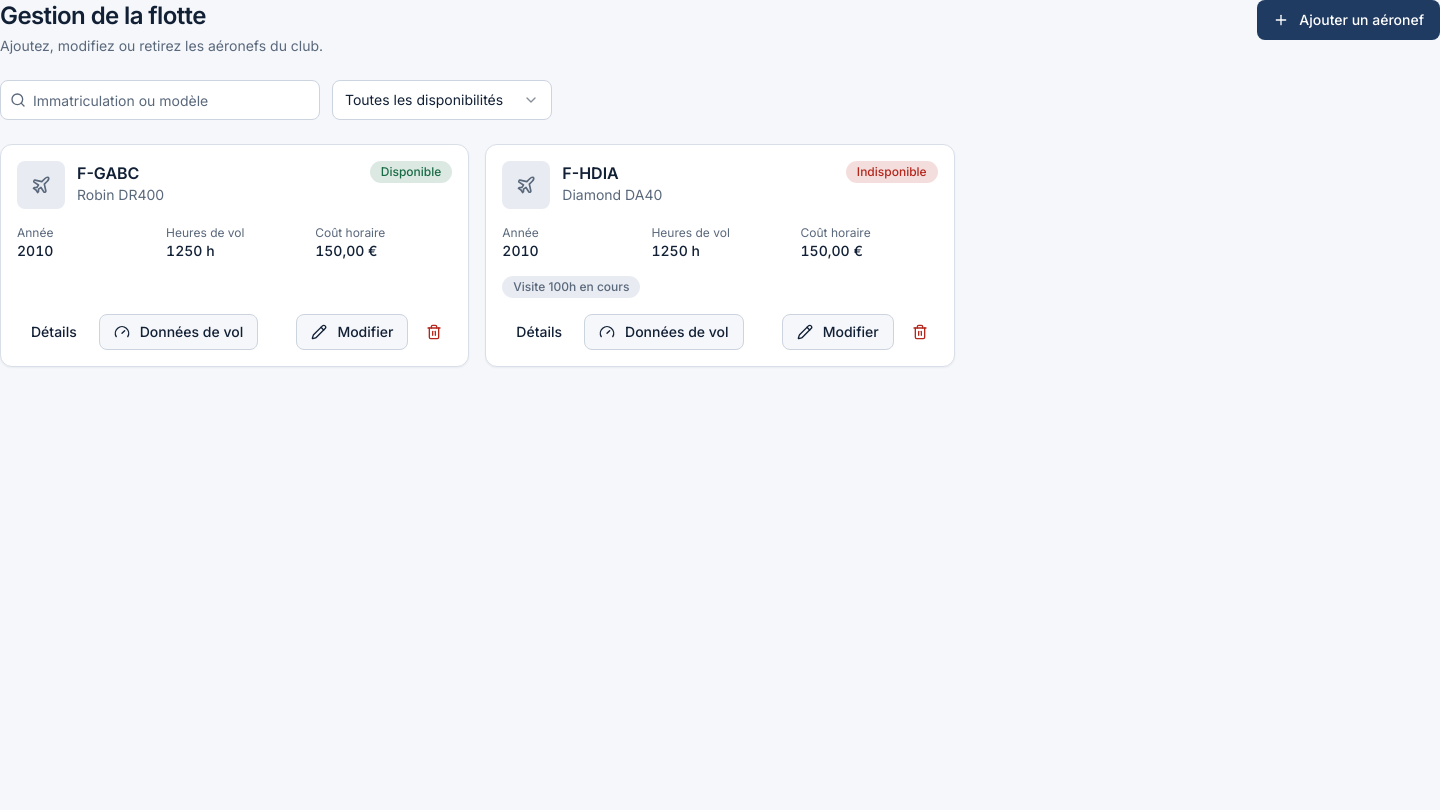
Test case: FleetManagementPage › supprime un aéronef après une confirmation qui le nomme, et rien si on annule
Expected: the heading "F-HDIA" is shown, [562, 163, 619, 183]
Click the button named "Supprimer F-HDIA".
click(920, 332)  # box [902, 314, 938, 350]
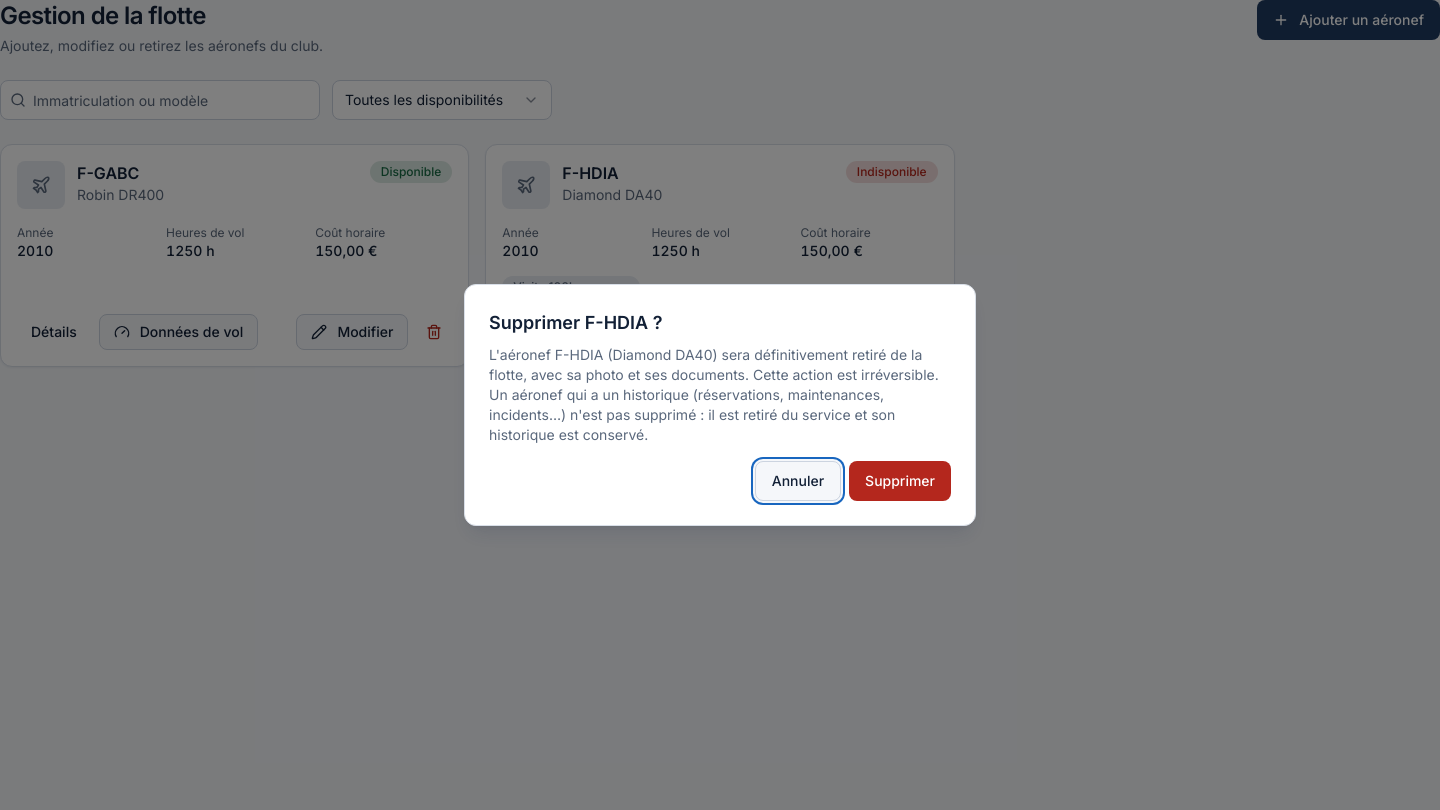
Expected: the dialog "Supprimer F-HDIA ?" shows "F-HDIA (Diamond DA40) sera définitivement", [489, 346, 939, 383]
Click the button "Annuler".
click(798, 481)  # box [755, 461, 841, 501]
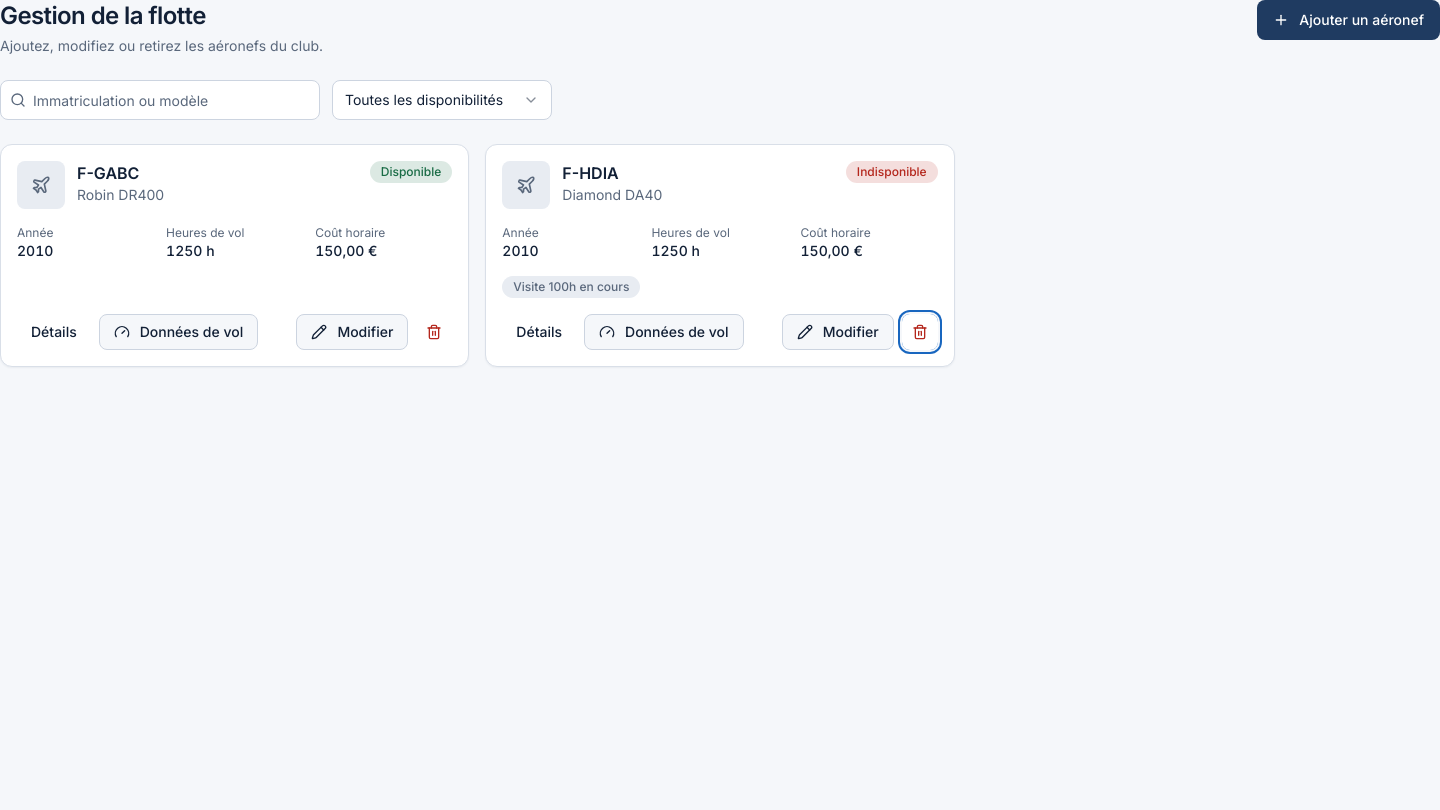
Expected: the heading "F-HDIA" is shown, [562, 163, 619, 183]
Expected: the dialog is gone
Click the button named "Supprimer F-HDIA".
click(920, 332)  # box [902, 314, 938, 350]
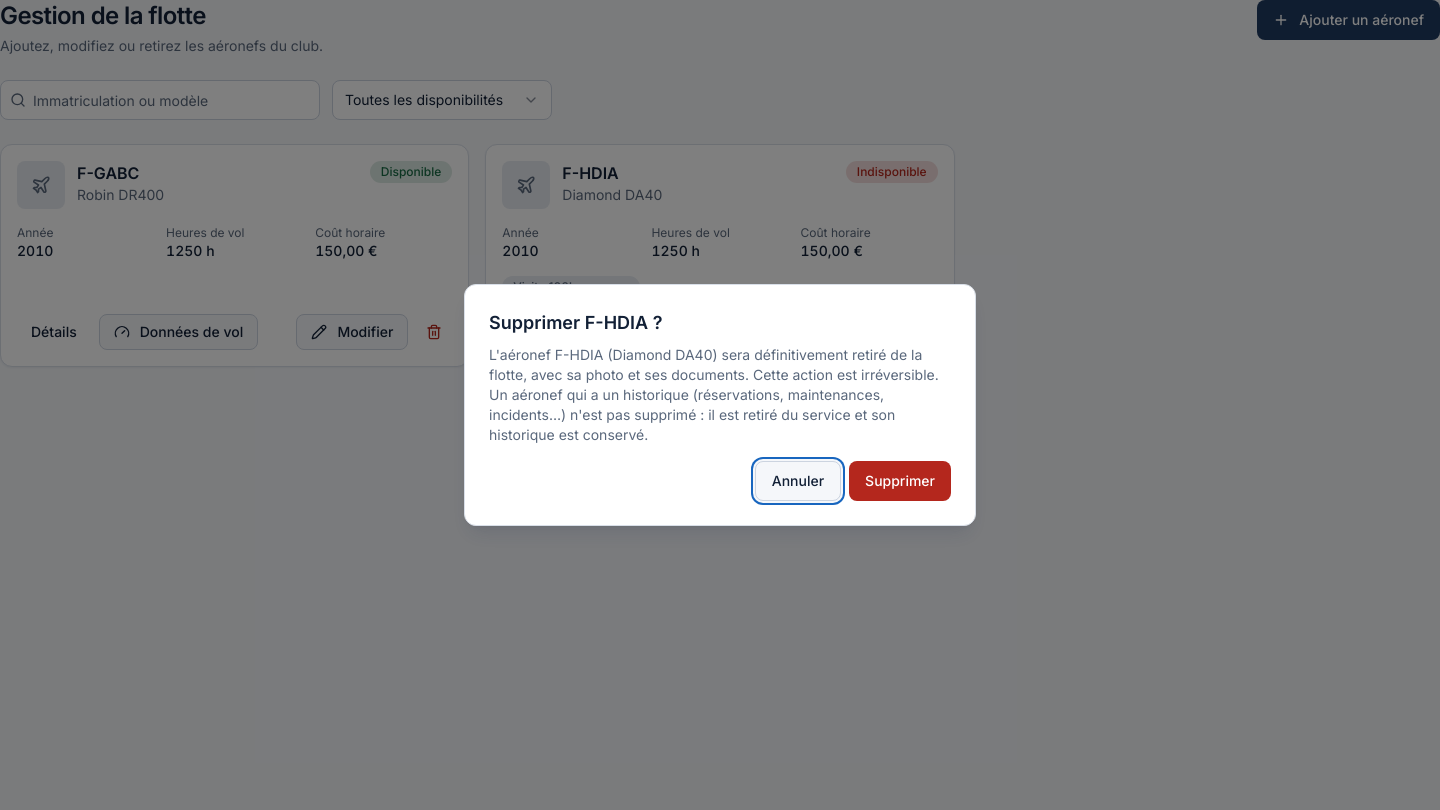
Click the button "Supprimer".
click(900, 481)  # box [849, 461, 951, 501]
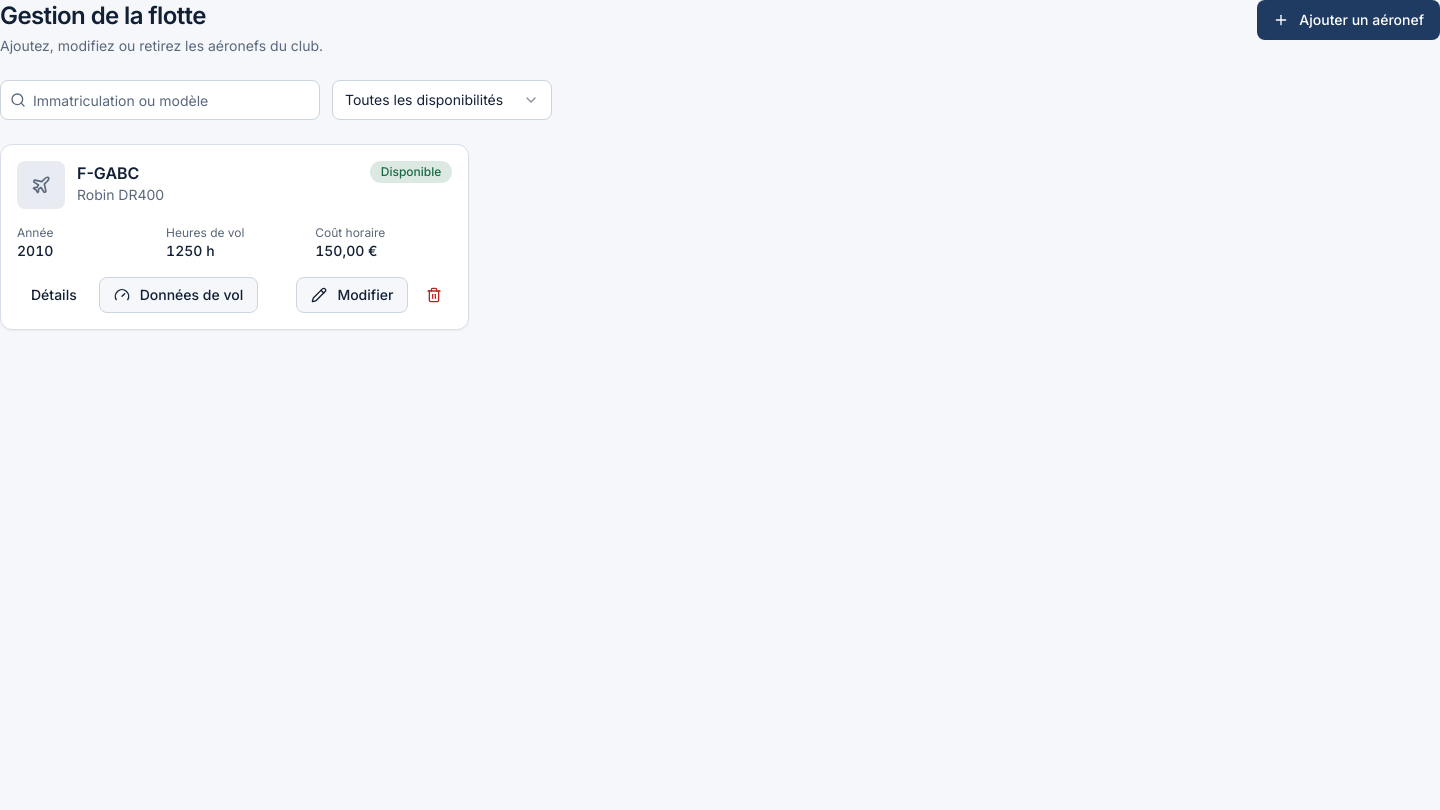
Expected: the heading "F-GABC" is shown, [77, 163, 139, 183]
Expected: the heading "F-HDIA" is gone
Expected: the dialog is gone
